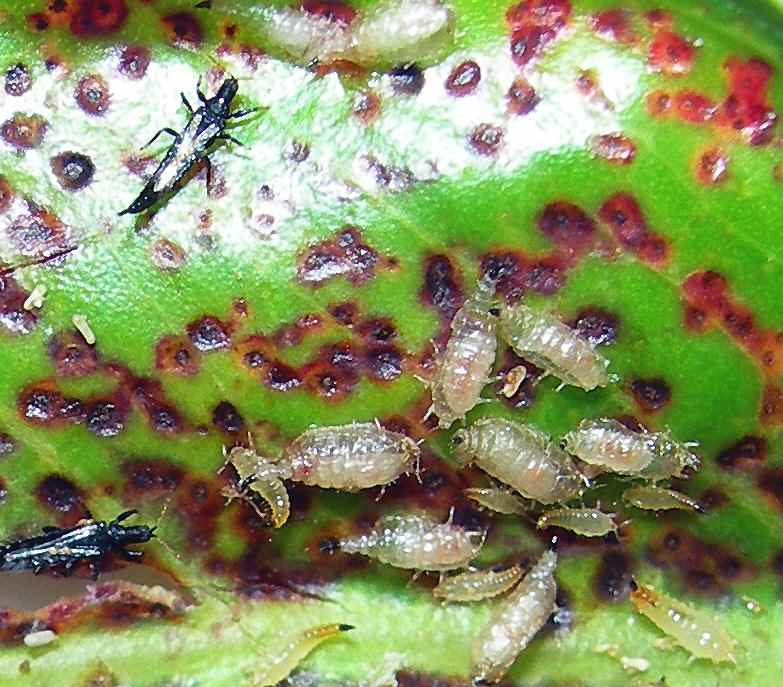Thrips: (127, 88, 241, 242), (23, 504, 172, 578)
